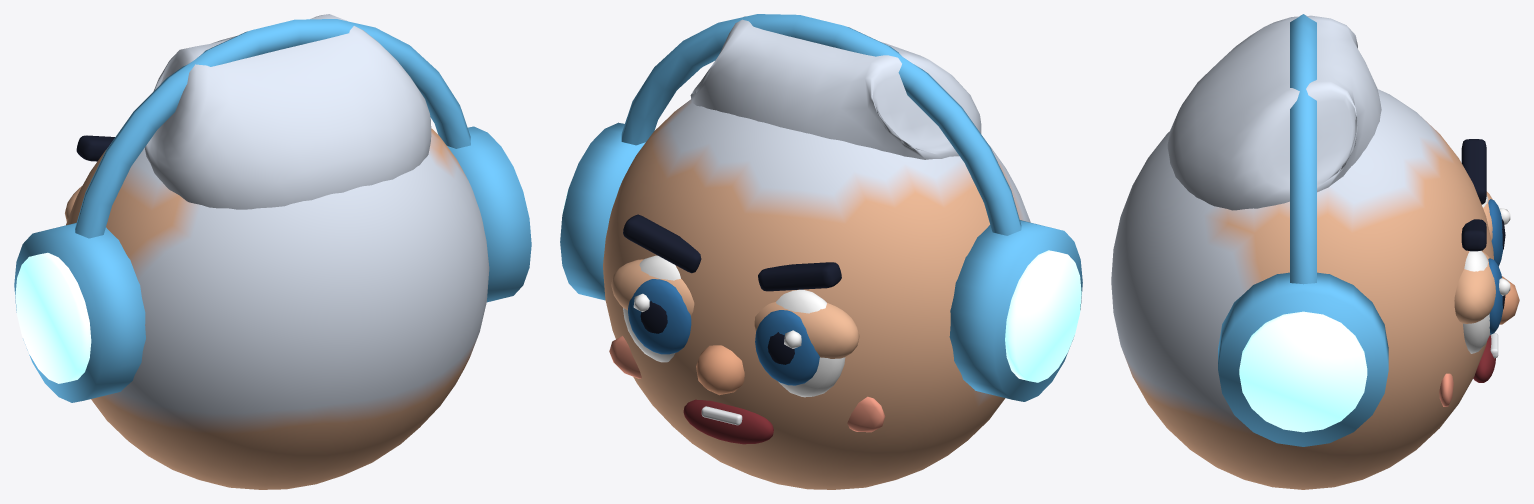
Rendered from avatar_bleu_tete.glb.
The picture shows the model from 3 angles, left to right: view 1: azimuth 30°, elevation 25°; view 2: azimuth 150°, elevation 25°; view 3: azimuth 270°, elevation 25°; orthographic projection. The views are drawn at different scales.
Visible parts, largest first — view 1: H_Tete, H_Cheveux, H_Arceau, H_Coussin-1, H_Led-1, H_Coussin1, H_Sourcil-1; view 2: H_Tete, H_Cheveux, H_Arceau, H_Coussin-1, H_Led-1, H_Coussin1, H_Iris1, H_Iris-1, H_Paupiere-1, H_Bouche, H_Sourcil1, H_Oeil-1 (+8 smaller); view 3: H_Tete, H_Cheveux, H_Led1, H_Coussin1, H_Arceau, H_Paupiere1, H_Sourcil-1, H_Oeil1, H_Sourcil1, H_Iris-1, H_Iris1, H_Bouche (+1 smaller).
Part boxes in pixels (bbox=[...]): H_Tete: bbox=[66, 128, 489, 489]; H_Cheveux: bbox=[145, 14, 431, 209]; H_Arceau: bbox=[75, 19, 470, 238]; H_Coussin-1: bbox=[14, 223, 145, 402]; H_Led-1: bbox=[15, 252, 91, 383]; H_Coussin1: bbox=[447, 126, 531, 302]; H_Sourcil-1: bbox=[76, 135, 114, 161]; H_Tete: bbox=[603, 99, 1030, 489]; H_Cheveux: bbox=[690, 16, 981, 159]; H_Arceau: bbox=[621, 14, 1021, 235]; H_Coussin-1: bbox=[949, 220, 1082, 401]; H_Led-1: bbox=[1005, 250, 1081, 382]; H_Coussin1: bbox=[560, 122, 645, 300]; H_Iris1: bbox=[628, 279, 691, 354]; H_Iris-1: bbox=[755, 310, 819, 385]; H_Paupiere-1: bbox=[754, 302, 859, 358]; H_Bouche: bbox=[683, 399, 773, 444]; H_Sourcil1: bbox=[623, 214, 701, 273]; H_Oeil-1: bbox=[776, 289, 845, 397]; H_Tete: bbox=[1111, 89, 1493, 489]; H_Cheveux: bbox=[1167, 15, 1381, 210]; H_Led1: bbox=[1239, 311, 1367, 432]; H_Coussin1: bbox=[1218, 272, 1388, 446]; H_Arceau: bbox=[1290, 14, 1316, 284]; H_Paupiere1: bbox=[1454, 252, 1495, 323]; H_Sourcil-1: bbox=[1461, 139, 1486, 204]; H_Oeil1: bbox=[1463, 251, 1490, 353]; H_Sourcil1: bbox=[1461, 219, 1486, 251]; H_Iris-1: bbox=[1488, 199, 1502, 266]; H_Iris1: bbox=[1488, 258, 1502, 334]; H_Bouche: bbox=[1473, 335, 1495, 382].
Bounding box in the file's own units: 0.706 × 0.6718 × 0.574.
